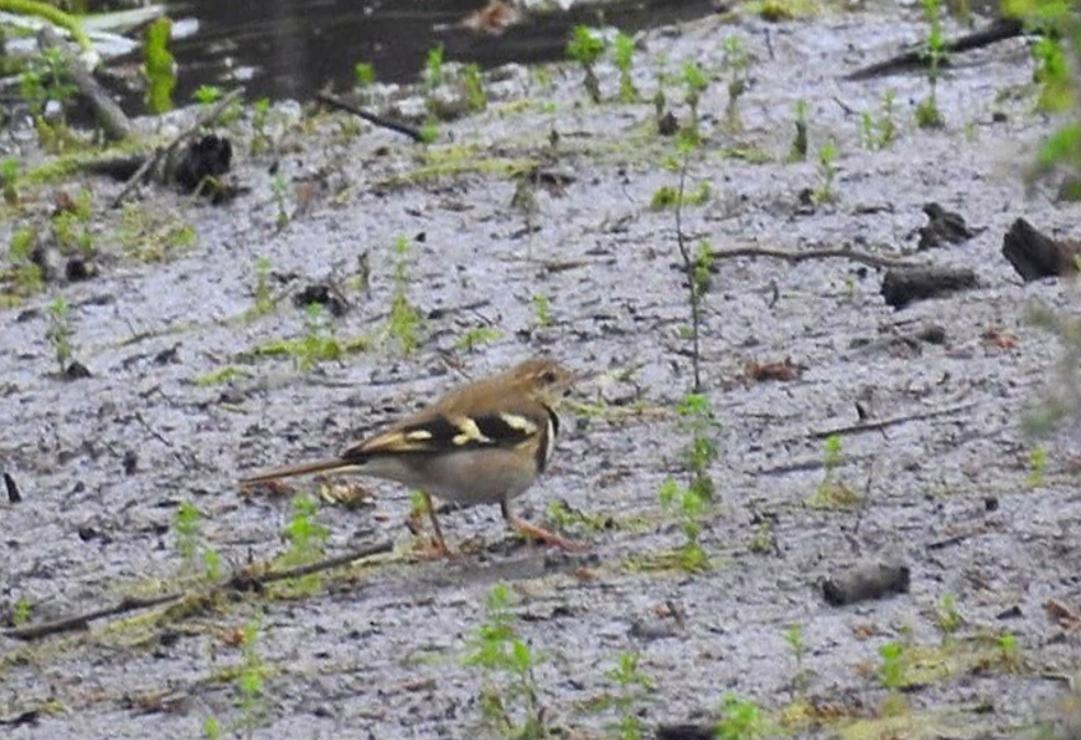wagtail: (247, 335, 613, 566)
